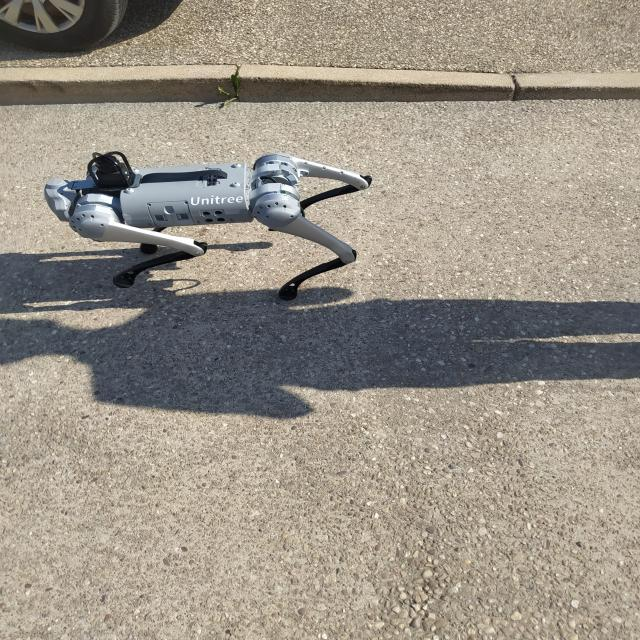unitree-go1-robot: (35, 139, 384, 308)
